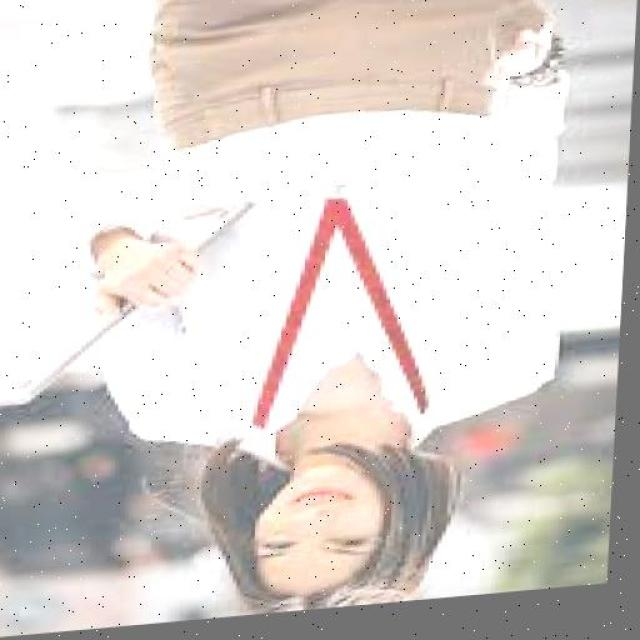id_card: (254, 173, 428, 432)
